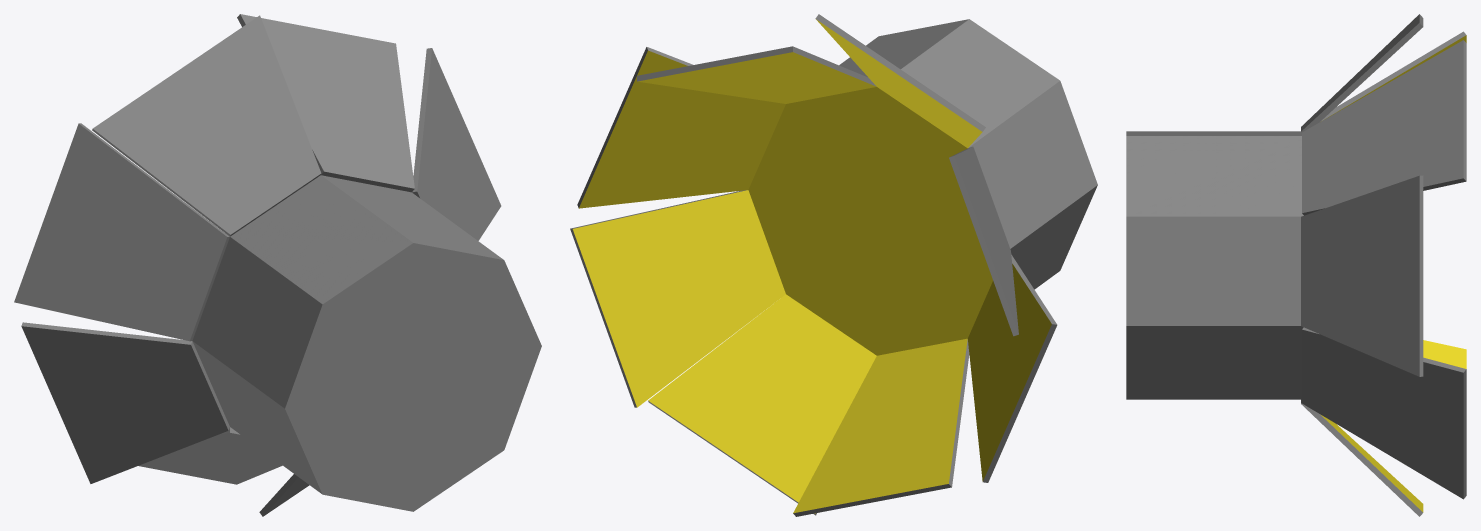
File: spotLight.glb
3 renders of one model, left to right at view 1: azimuth 30°, elevation 25°; view 2: azimuth 150°, elevation 25°; view 3: azimuth 270°, elevation 25°, orthographic. The views are drawn at different scales.
Parts seen in each view (by area): view 1: spotLight; view 2: spotLight; view 3: spotLight.
Part boxes in pixels (x1,y1,x2,y2): spotLight: (14, 14, 541, 516); spotLight: (570, 14, 1097, 516); spotLight: (1126, 14, 1466, 516).
Bounding box in the file's own units: 0.0467 × 0.0467 × 0.0297.
